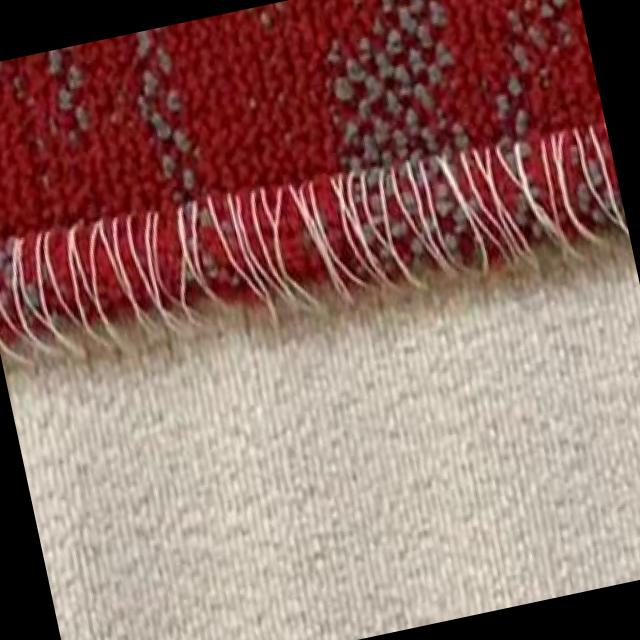gray stitch: (0, 105, 630, 380)
